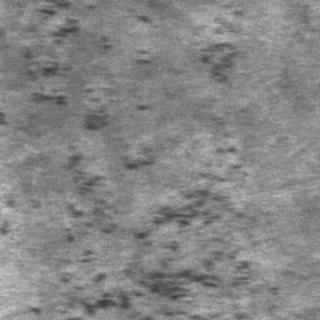rolled pit: (45, 144, 278, 316), (13, 1, 150, 170), (191, 0, 245, 84)
